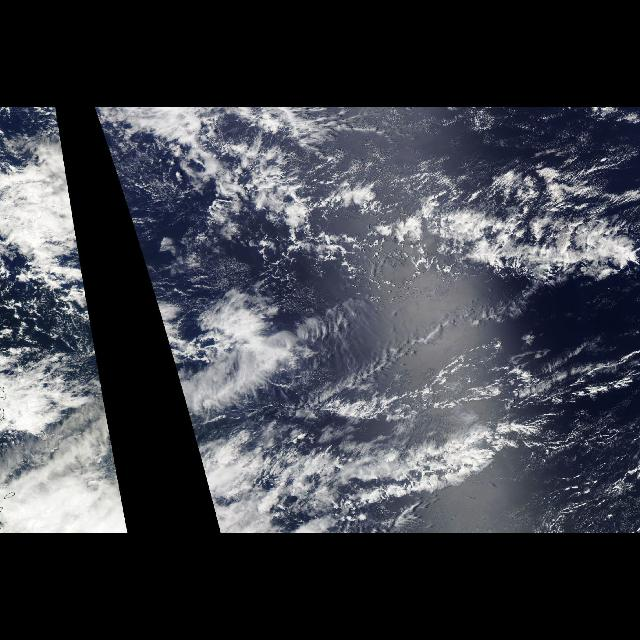Fish: (309, 158, 639, 296), (273, 410, 542, 530)
